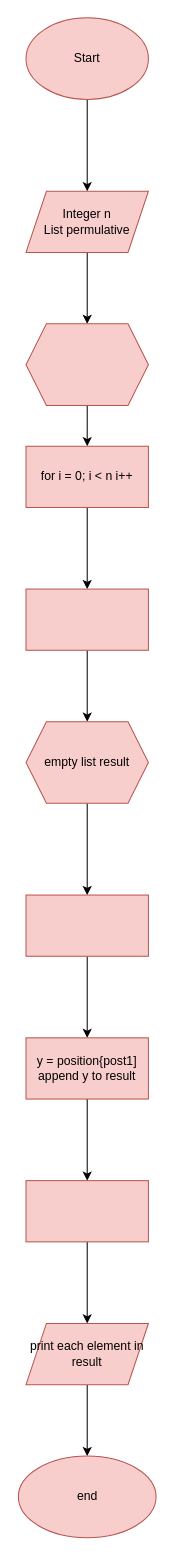
Image size: 173x1556. Some labels were removed from this diagram. Here are the shapes that lost their labels. From the top down, the box of each, then its label:
(25, 323, 148, 405): empy dictionary position
(25, 588, 148, 650): position[p[i]] = i + 1
(25, 894, 148, 956): for x = 1 to n
(25, 1180, 148, 1242): Return result
